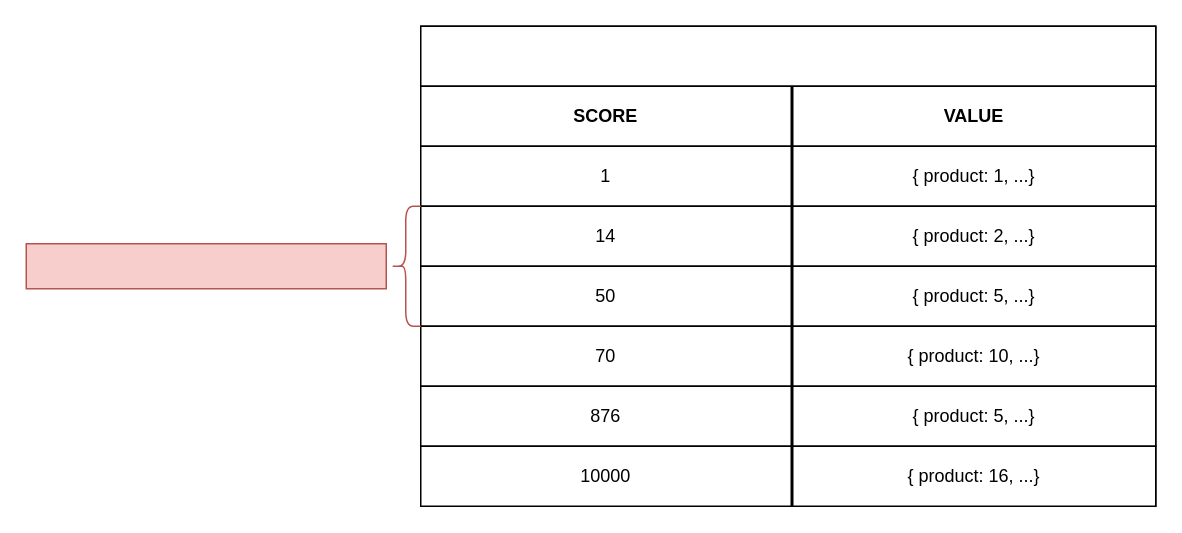
Image size: 1182x533. Some labels were removed from this diagram. Each missing label, with the centre of its shape:
product:user:1: point (787, 55)
zrangebyscore product:user:1 13 100: point (205, 265)
